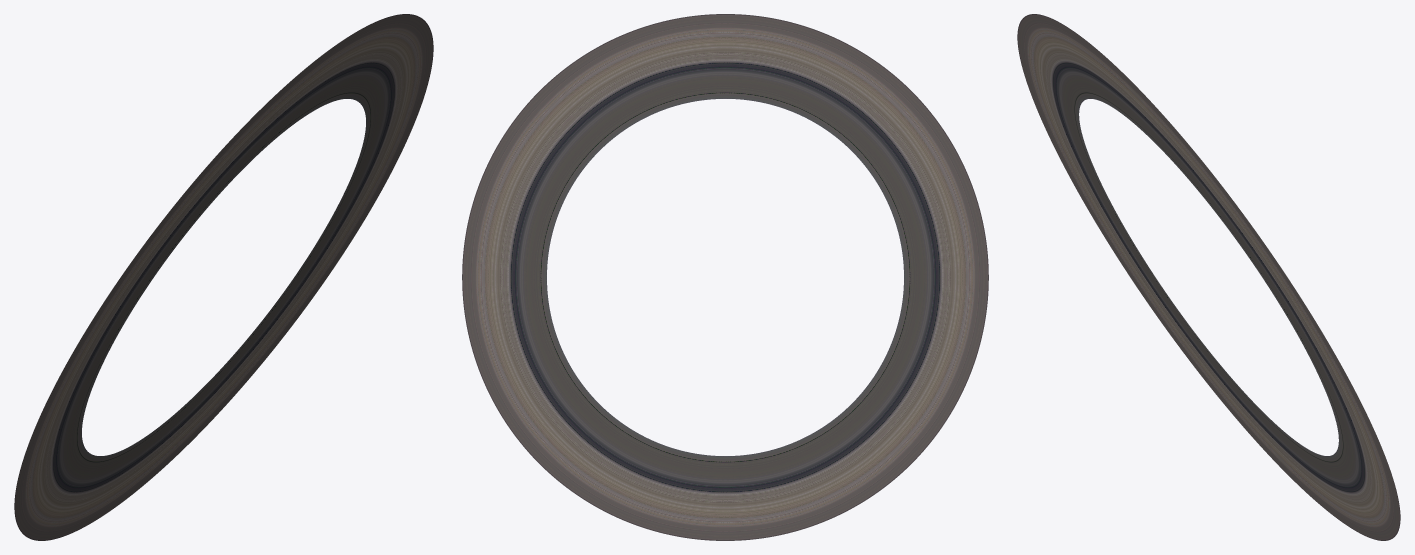
The model's file is Saturn_ring.obj.
3 renders of one model, left to right at view 1: azimuth 30°, elevation 25°; view 2: azimuth 150°, elevation 25°; view 3: azimuth 270°, elevation 25°, orthographic. The views are drawn at different scales.
Parts seen in each view (by area): view 1: Circle; view 2: Circle; view 3: Circle.
Part boxes in pixels (x1,y1,x2,y2): Circle: (14,14,433,540); Circle: (462,14,988,540); Circle: (1017,14,1400,540).
Bounding box in the file's own units: 5.28 × 5.27 × 3.5.
Materials: 1 (1 with a texture image).
